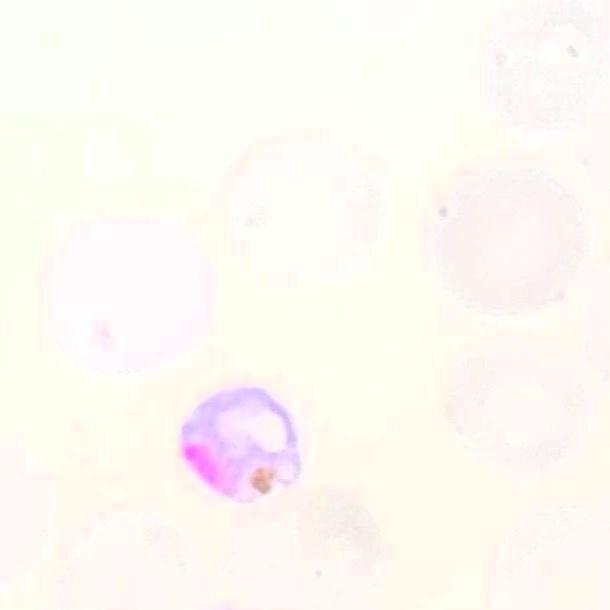Infected: (178, 382, 307, 506)
